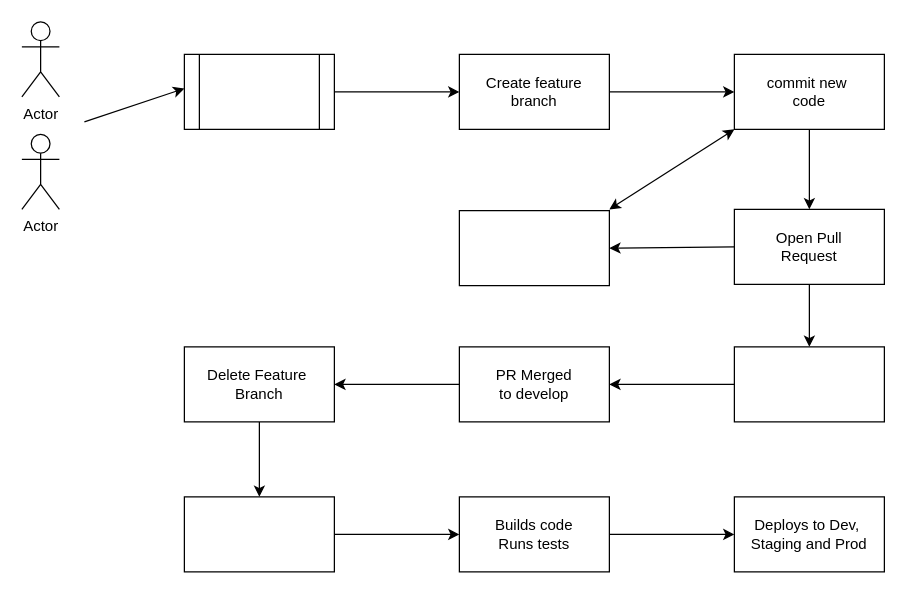
The diagram is 906 pixels wide and 594 high, and some of its shapes have lost their labels. Each missing label, with the centre of its shape:
changes are required: pixel 533 247
PR Approved: pixel 808 384
Story: pixel 258 91
triggers Jenkins pipeline for develop: pixel 258 534
